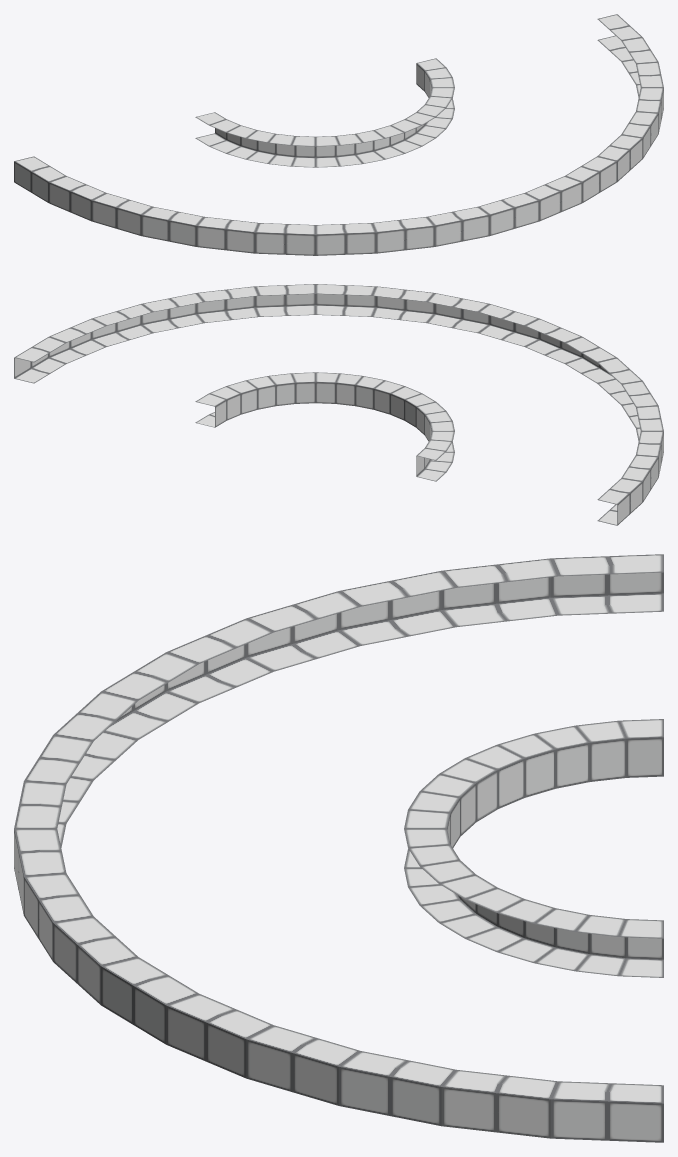
The model's file is VanillaPassTrimCurve1BM.obj.
3 renders of one model, top to bottom at view 1: azimuth 30°, elevation 25°; view 2: azimuth 150°, elevation 25°; view 3: azimuth 270°, elevation 25°, orthographic. The views are drawn at different scales.
Parts seen in each view (by area): view 1: VanillaPassTrimCurve1BM; view 2: VanillaPassTrimCurve1BM; view 3: VanillaPassTrimCurve1BM.
Boxes of the visible parts, bbox=[...] form: VanillaPassTrimCurve1BM: bbox=[14, 14, 663, 255]; VanillaPassTrimCurve1BM: bbox=[14, 284, 663, 525]; VanillaPassTrimCurve1BM: bbox=[14, 554, 663, 1142].
Size of the model in its own units: 15 by 0.5 by 7.5.
